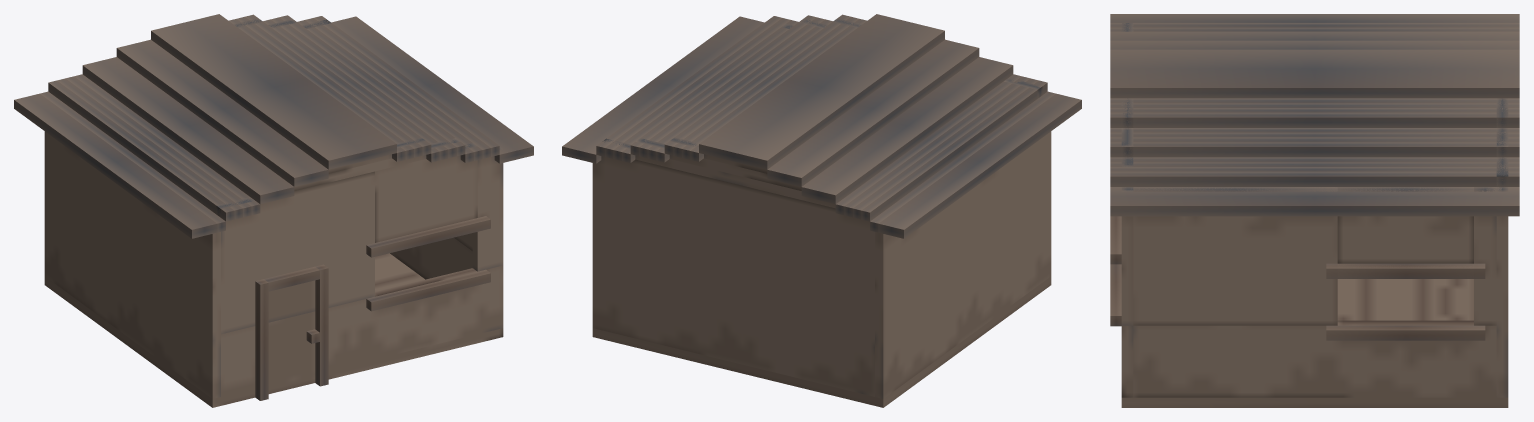
File: house(example).fbx
The picture shows the model from 3 angles, left to right: view 1: azimuth 30°, elevation 25°; view 2: azimuth 150°, elevation 25°; view 3: azimuth 270°, elevation 25°; orthographic projection. The views are drawn at different scales.
Visible parts, largest first — view 1: house(example)_0; view 2: house(example)_0; view 3: house(example)_0.
Part boxes in pixels (bbox=[...]): house(example)_0: bbox=[14, 14, 533, 407]; house(example)_0: bbox=[562, 14, 1081, 407]; house(example)_0: bbox=[1110, 14, 1519, 407].
Bounding box in the file's own units: 4000 × 3600 × 2500.
